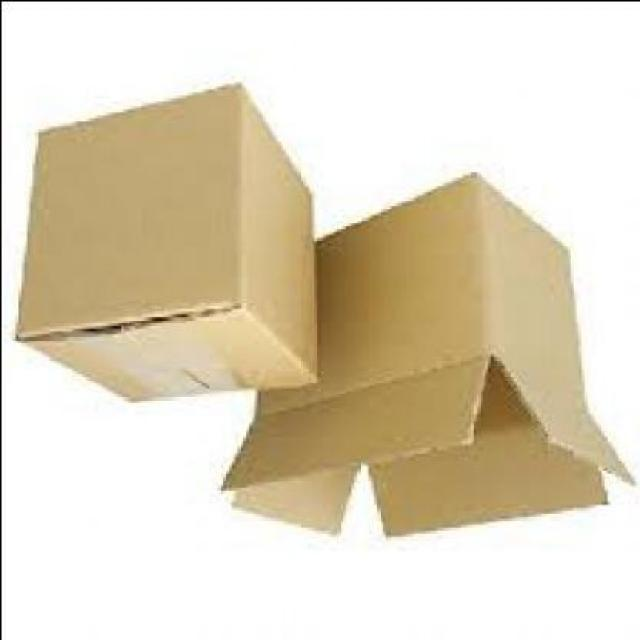box: (228, 177, 637, 538), (17, 80, 318, 405)
